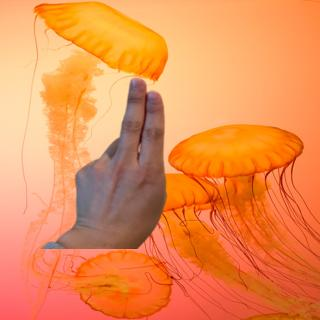DHAVE: (64, 72, 169, 246)
